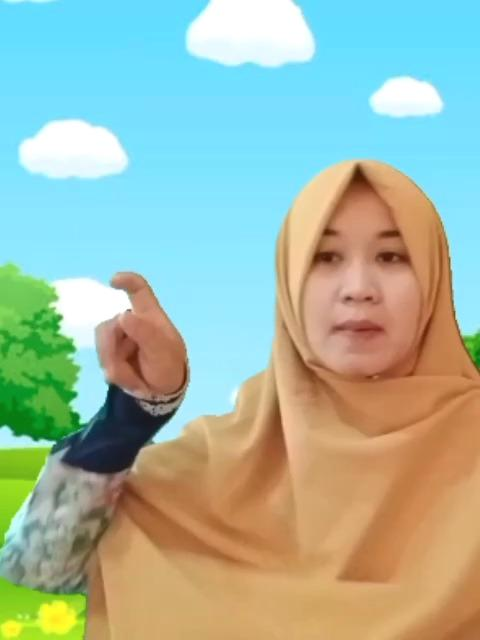X: (83, 267, 191, 405)
